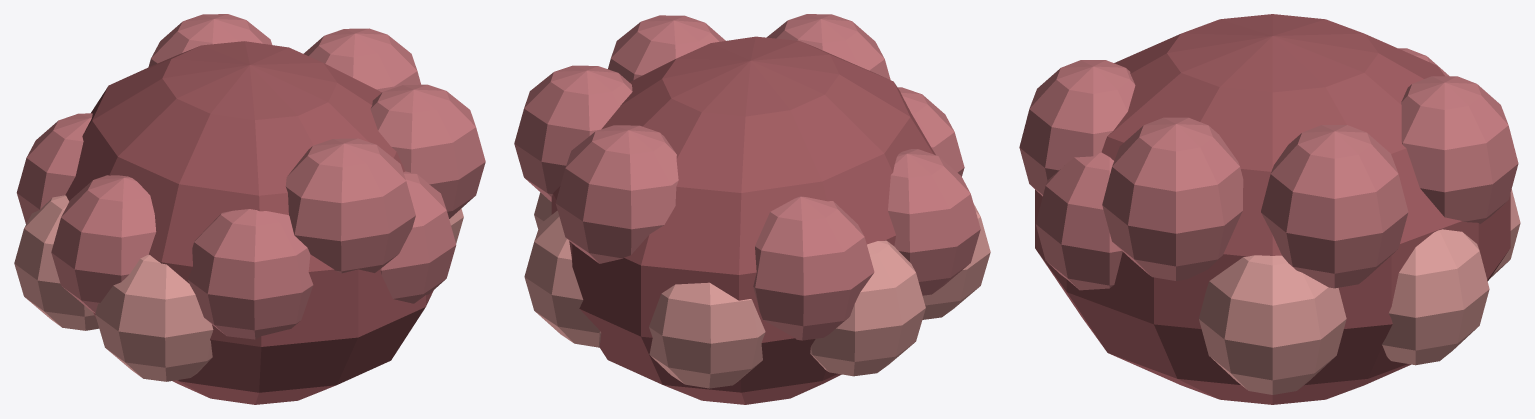
File: bulbfreak_body.obj
The picture shows the model from 3 angles, left to right: view 1: azimuth 30°, elevation 25°; view 2: azimuth 150°, elevation 25°; view 3: azimuth 270°, elevation 25°; orthographic projection. The views are drawn at different scales.
Parts seen in each view (by area): view 1: bulbfreak_body; view 2: bulbfreak_body; view 3: bulbfreak_body.
Part boxes in pixels (x1,y1,x2,y2): bulbfreak_body: (14, 14, 485, 404); bulbfreak_body: (514, 14, 990, 404); bulbfreak_body: (1019, 14, 1520, 404).
Bounding box in the file's own units: 1.45 × 1.07 × 1.4.
